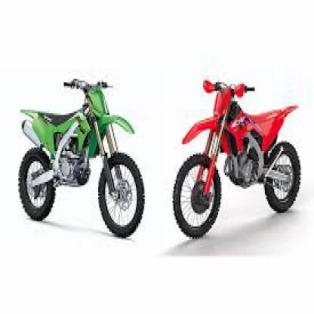Motocicleta: (169, 60, 305, 244), (13, 65, 148, 246)
